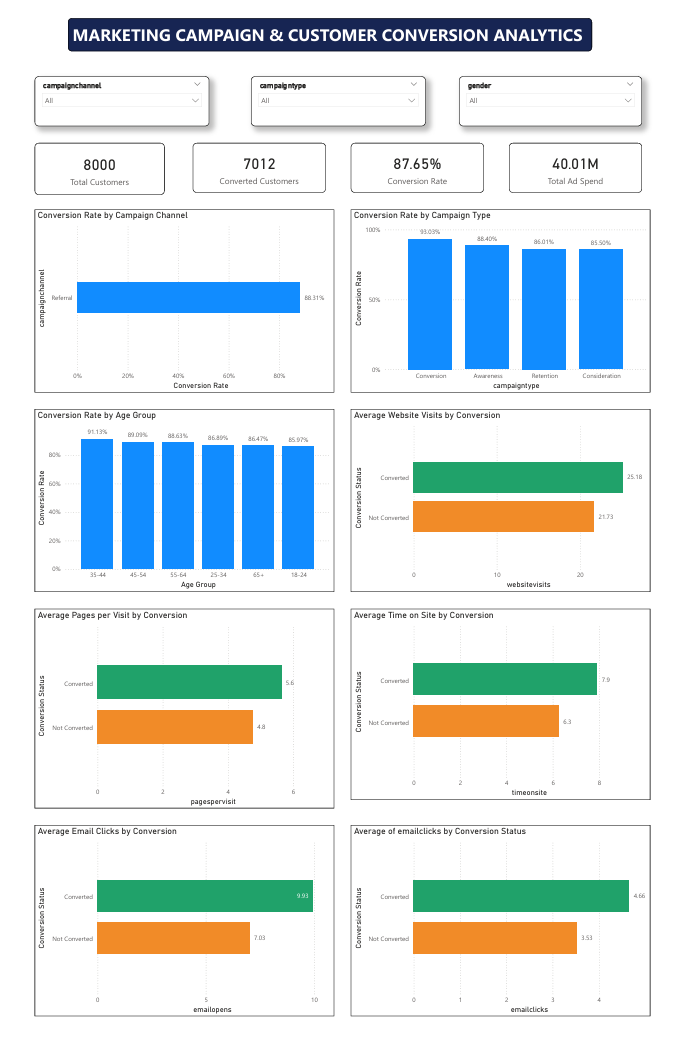

Layout of this report page (visuals, bound fields, positions):
{"tool":"powerbi","page":{"name":"Page 1","canvas":[1280,2050],"ordinal":0},"visuals":[{"type":"card","fields":{"Values":["marketing_campaigns.Total Customers"]},"box":[48,320,250,100],"z":0},{"type":"card","fields":{"Values":["marketing_campaigns.Converted Customers"]},"box":[352,320,256,96],"z":1000},{"type":"card","fields":{"Values":["marketing_campaigns.Conversion Rate"]},"box":[656,320,256,96],"z":2000},{"type":"card","fields":{"Values":["marketing_campaigns.Total Ad Spend"]},"box":[960,320,256,96],"z":3000},{"type":"clusteredBarChart","title":"Conversion Rate by Campaign Channel","fields":{"Category":["marketing_campaigns.campaignchannel"],"Y":["marketing_campaigns.Conversion Rate"]},"box":[48,448,576,352],"z":4000},{"type":"clusteredColumnChart","title":"Conversion Rate by Campaign Type","fields":{"Category":["marketing_campaigns.campaigntype"],"Y":["marketing_campaigns.Conversion Rate"]},"box":[656,448,576,352],"z":5000},{"type":"clusteredColumnChart","title":"Conversion Rate by Age Group","fields":{"Category":["marketing_campaigns.Age Group"],"Y":["marketing_campaigns.Conversion Rate"]},"box":[48,832,576,352],"z":6000},{"type":"clusteredBarChart","title":"Average Website Visits by Conversion","fields":{"Y":["Avg(marketing_campaigns.websitevisits)"],"Category":["marketing_campaigns.Conversion Status"]},"box":[656,832,576,352],"z":7000},{"type":"clusteredBarChart","title":"Average Pages per Visit by Conversion","fields":{"Y":["Avg(marketing_campaigns.pagespervisit)"],"Category":["marketing_campaigns.Conversion Status"]},"box":[48,1216,576,384],"z":7001},{"type":"clusteredBarChart","title":"Average Time on Site by Conversion","fields":{"Y":["Avg(marketing_campaigns.timeonsite)"],"Category":["marketing_campaigns.Conversion Status"]},"box":[656,1216,576,368],"z":7002},{"type":"clusteredBarChart","title":"Average Email Clicks by Conversion","fields":{"Y":["Avg(marketing_campaigns.emailopens)"],"Category":["marketing_campaigns.Conversion Status"]},"box":[48,1632,576,368],"z":7003},{"type":"clusteredBarChart","fields":{"Category":["marketing_campaigns.Conversion Status"],"Y":["Avg(marketing_campaigns.emailclicks)"]},"box":[656,1632,576,368],"z":7004},{"type":"slicer","fields":{"Values":["marketing_campaigns.campaignchannel"]},"box":[48,192,336,96],"z":7005},{"type":"slicer","fields":{"Values":["marketing_campaigns.campaigntype"]},"box":[464,192,336,96],"z":7006},{"type":"slicer","fields":{"Values":["marketing_campaigns.gender"]},"box":[864,192,352,96],"z":7007},{"type":"textbox","box":[112,80,1008,64],"z":7008}]}

Visuals, with their boxes in screenshot pixels (x1, y1, x2, y2):
card - marketing_campaigns.Total Customers: 33,139,163,191
card - marketing_campaigns.Converted Customers: 191,139,325,189
card - marketing_campaigns.Conversion Rate: 350,139,483,189
card - marketing_campaigns.Total Ad Spend: 508,139,641,189
"Conversion Rate by Campaign Channel" clusteredBarChart: 33,206,333,389
"Conversion Rate by Campaign Type" clusteredColumnChart: 350,206,650,389
"Conversion Rate by Age Group" clusteredColumnChart: 33,406,333,589
"Average Website Visits by Conversion" clusteredBarChart: 350,406,650,589
"Average Pages per Visit by Conversion" clusteredBarChart: 33,606,333,806
"Average Time on Site by Conversion" clusteredBarChart: 350,606,650,798
"Average Email Clicks by Conversion" clusteredBarChart: 33,823,333,1014
clusteredBarChart - marketing_campaigns.Conversion Status x Avg(marketing_campaigns.emailclicks): 350,823,650,1014
slicer - marketing_campaigns.campaignchannel: 33,73,208,123
slicer - marketing_campaigns.campaigntype: 250,73,425,123
slicer - marketing_campaigns.gender: 458,73,641,123
textbox: 66,14,591,48
